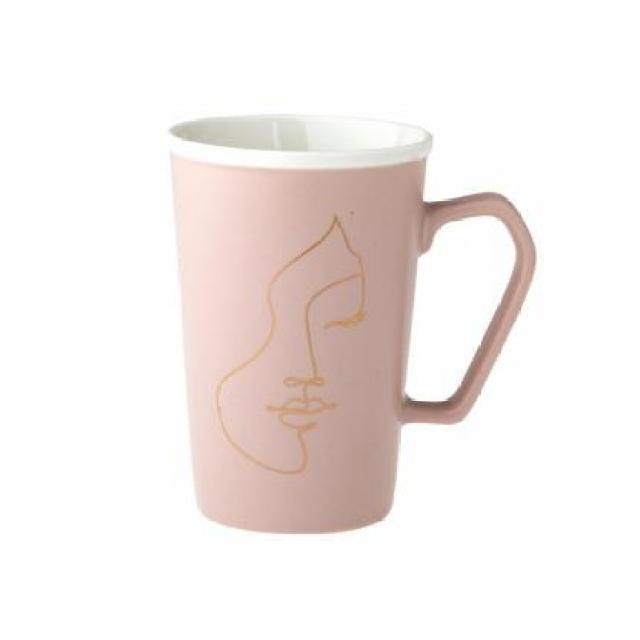taza: (164, 114, 537, 536)
